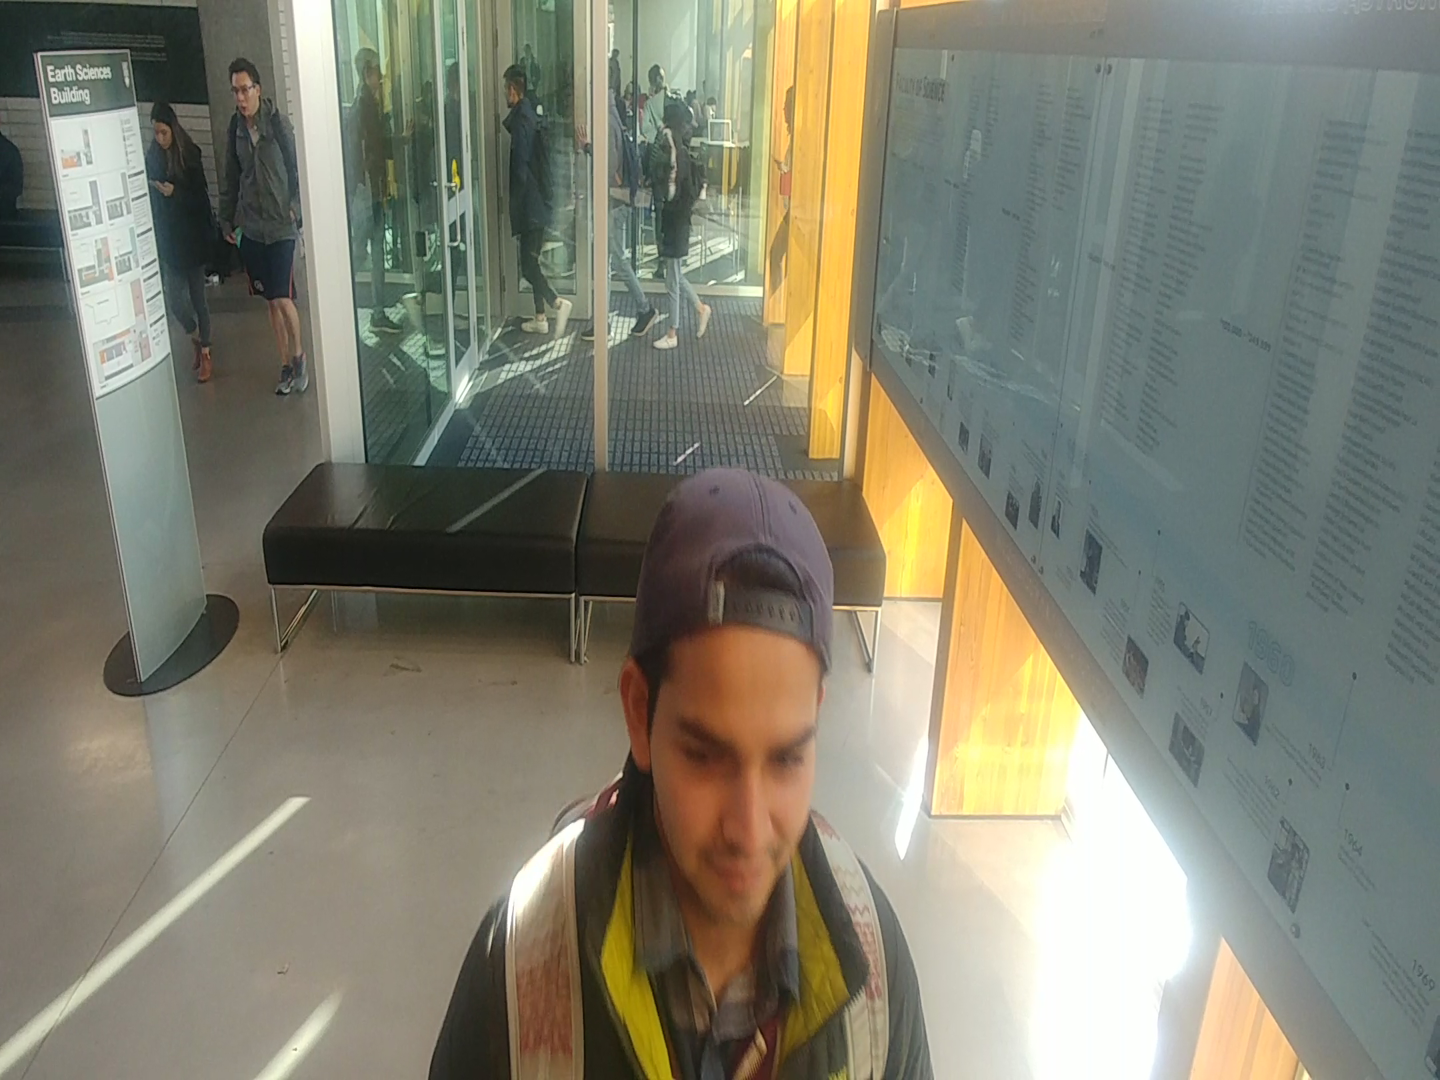face: (597, 440, 849, 936), (139, 93, 191, 159), (222, 51, 271, 118), (492, 56, 536, 118), (345, 45, 391, 100)
human: (412, 454, 971, 1080), (215, 55, 315, 409), (140, 86, 229, 393), (490, 60, 580, 349), (333, 38, 416, 348), (647, 88, 727, 353)
